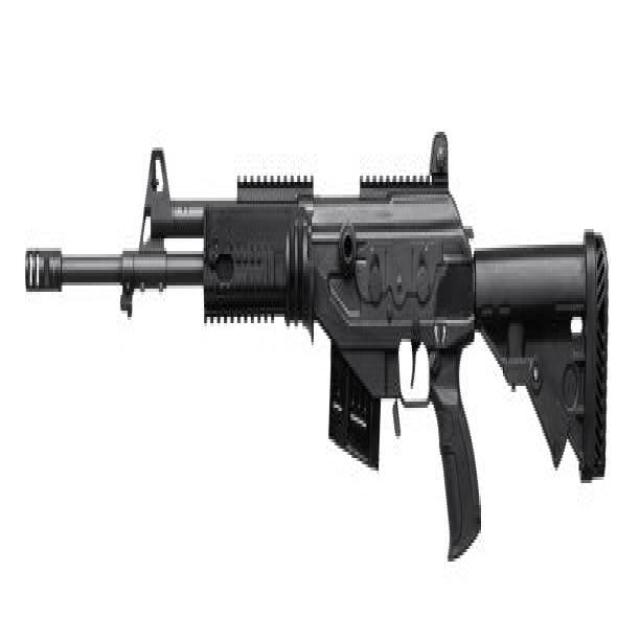rifle: (23, 128, 619, 593)
